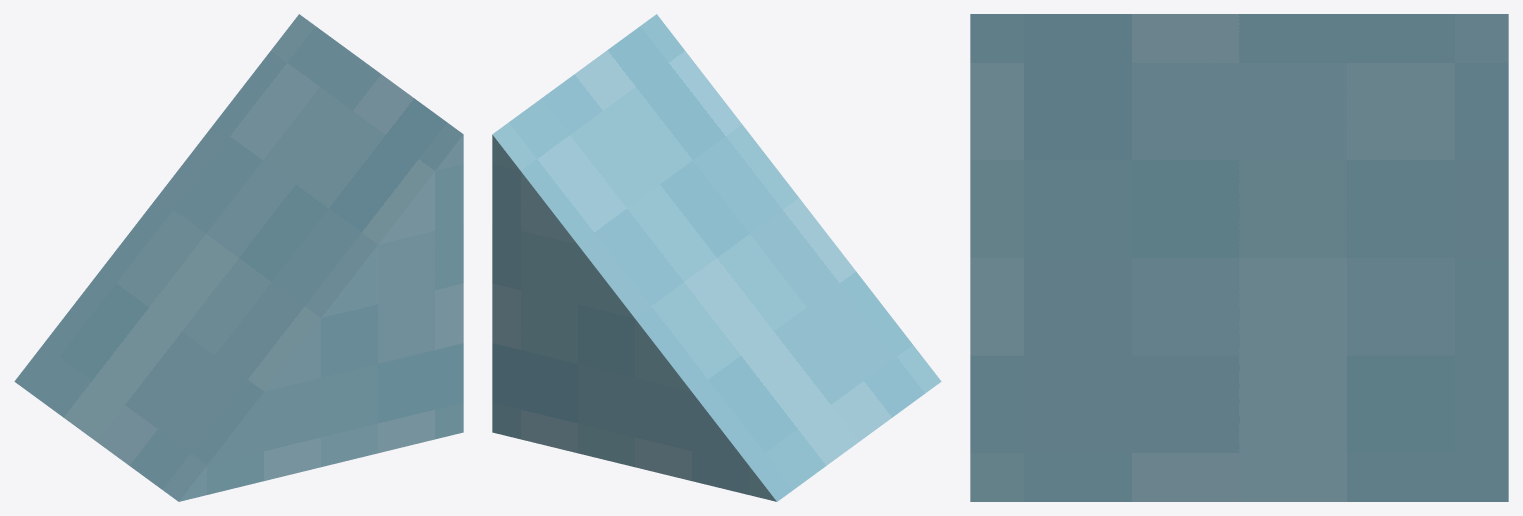
The model's file is Ice_Slope.glb.
3 views of the same model, side by side, from view 1: azimuth 30°, elevation 25°; view 2: azimuth 150°, elevation 25°; view 3: azimuth 270°, elevation 25° (orthographic). The views are drawn at different scales.
Visible parts, largest first — view 1: Ice_Slope_body; view 2: Ice_Slope_body; view 3: Ice_Slope_body.
Part boxes in pixels (<box>): Ice_Slope_body: <box>14,14,463,501</box>; Ice_Slope_body: <box>492,14,941,501</box>; Ice_Slope_body: <box>970,14,1508,501</box>.
Size of the model in its own units: 1 by 1 by 1.
1 material, 1 textured.
